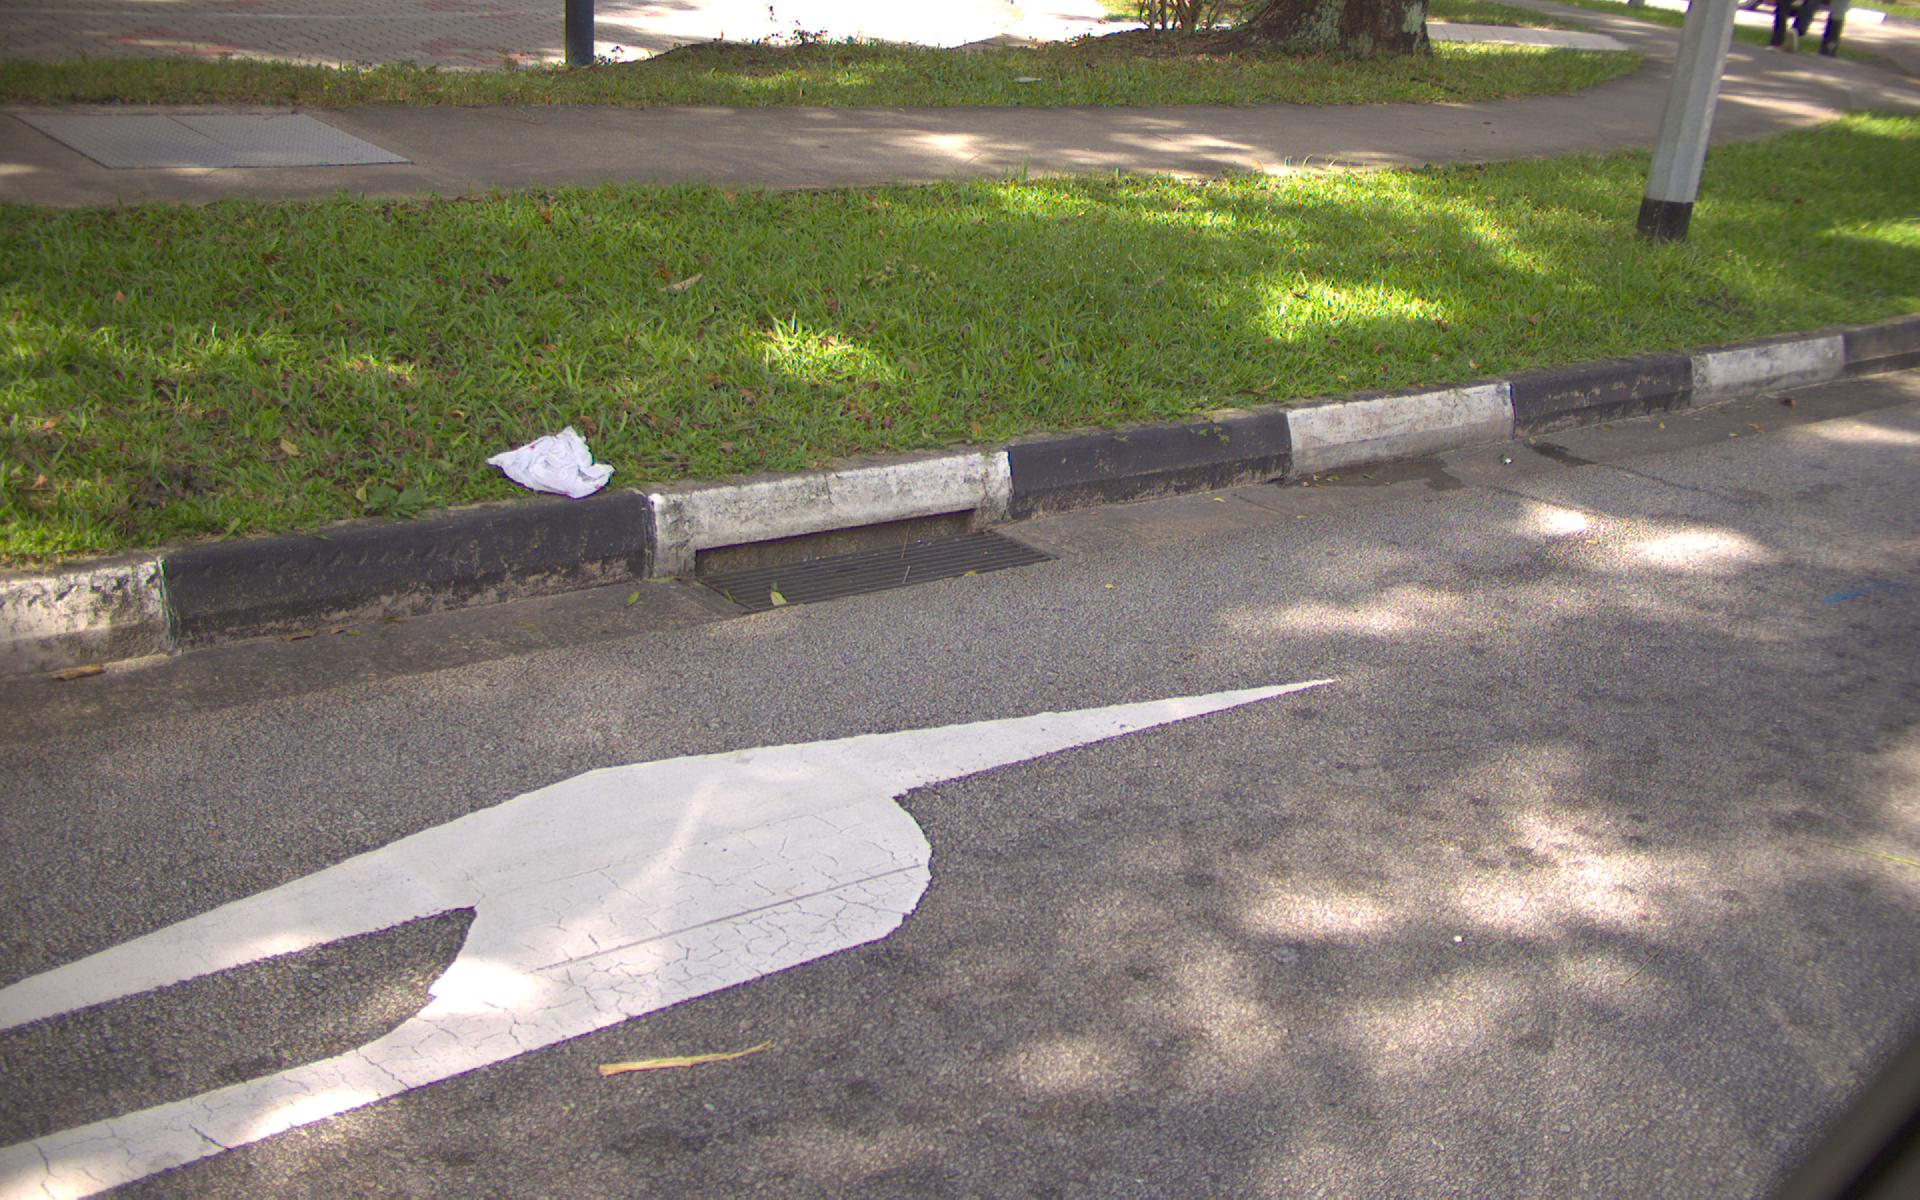curb_dic_low: (647, 489, 1089, 612)
pathway_low: (1, 113, 1258, 173)
road_turf_low: (6, 210, 1214, 411)
